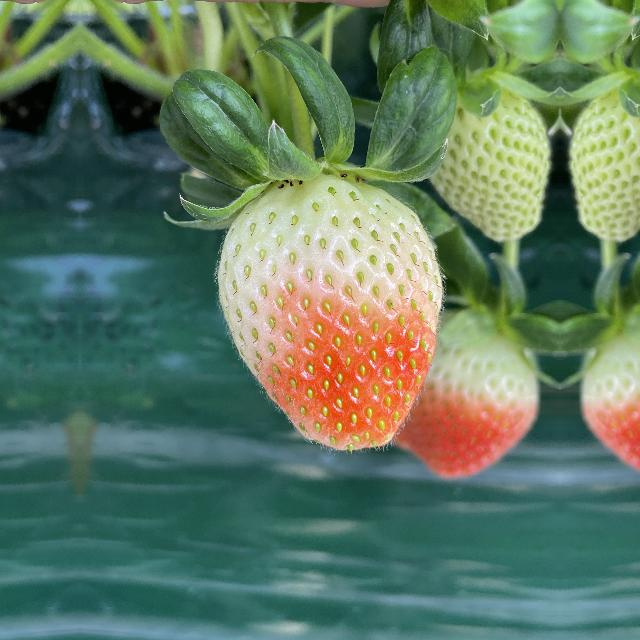Health_25: (422, 88, 548, 245), (572, 87, 640, 244)
Health_50: (207, 170, 445, 458)
Health_75: (392, 301, 538, 479), (581, 301, 640, 479)
